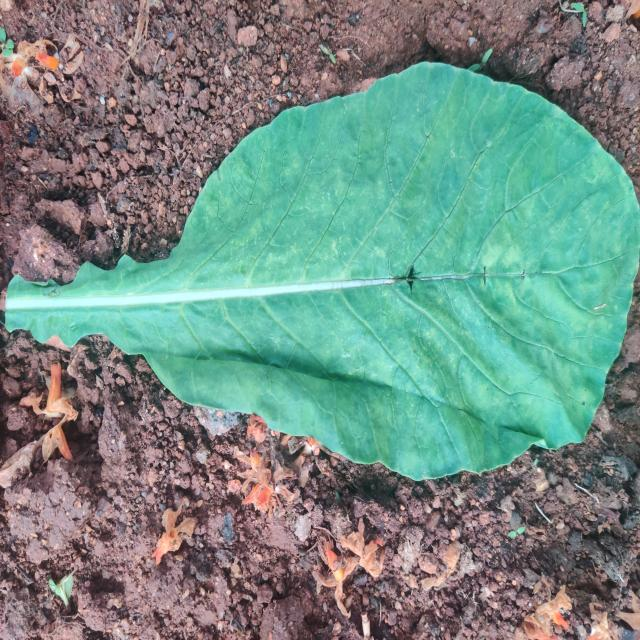raddish: (5, 63, 640, 480)
